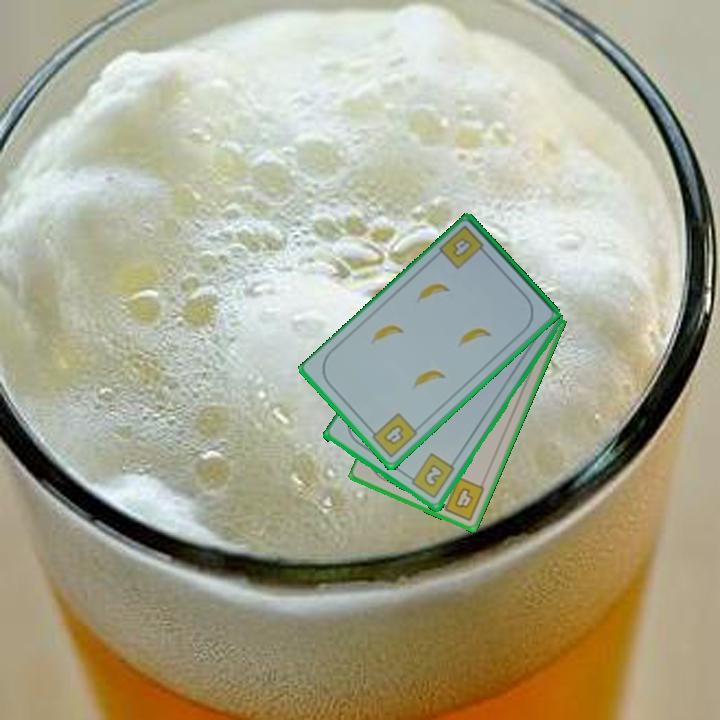2b: (403, 450, 458, 502)
4b: (365, 409, 421, 461), (436, 222, 491, 272), (435, 474, 488, 524)
